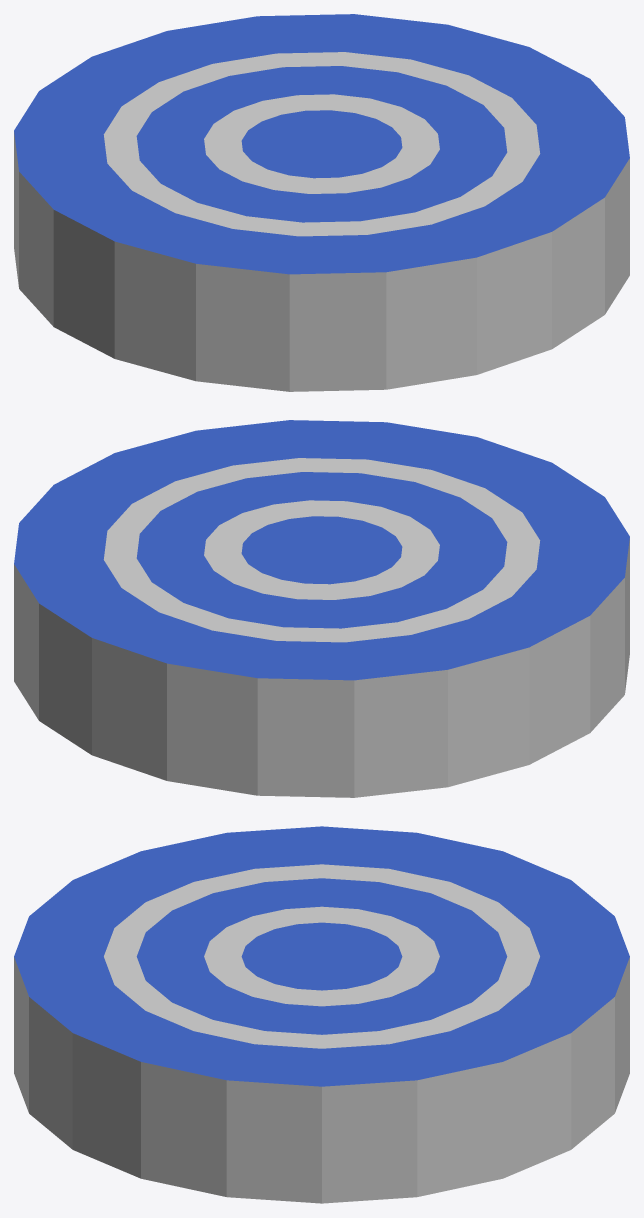
The model's file is Diana.fbx.
3 renders of one model, top to bottom at view 1: azimuth 30°, elevation 25°; view 2: azimuth 150°, elevation 25°; view 3: azimuth 270°, elevation 25°, orthographic.
Parts seen in each view (by area): view 1: Circle; view 2: Circle; view 3: Circle.
Boxes of the visible parts, x1,y1,x2,y2 form: Circle: (14, 14, 629, 391); Circle: (14, 420, 629, 797); Circle: (14, 826, 629, 1203).
Bounding box in the file's own units: 330 × 69.11 × 330.
